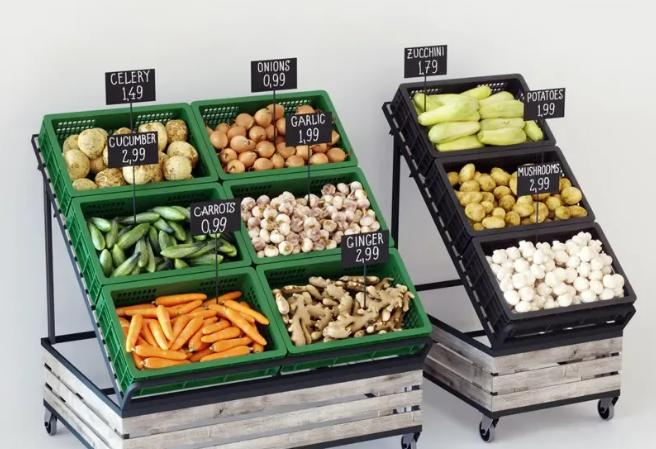carrot: (112, 291, 268, 370)
cucumber: (82, 206, 237, 278)
garlic: (237, 184, 380, 256)
ginger: (269, 274, 417, 344)
onion: (210, 104, 349, 174)
potato: (442, 162, 586, 227)
